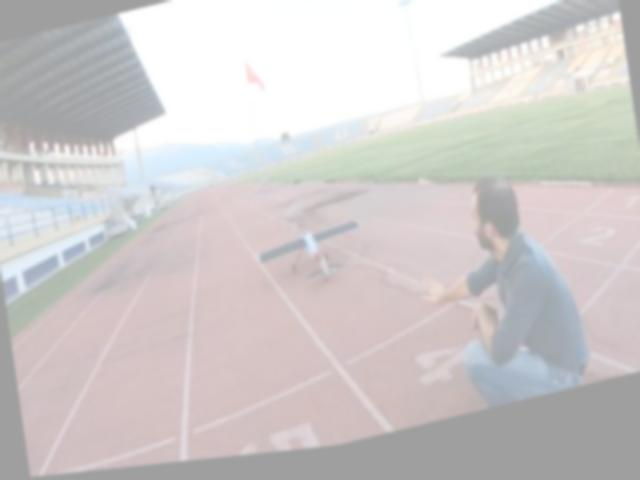uav: (250, 215, 368, 301)
